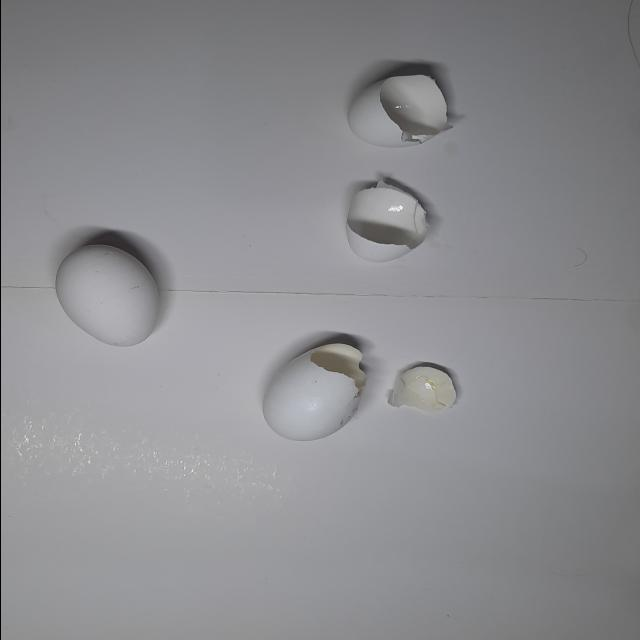egg shell: (46, 232, 164, 358), (255, 322, 371, 445), (339, 66, 461, 150), (338, 175, 442, 268), (382, 359, 462, 419)
